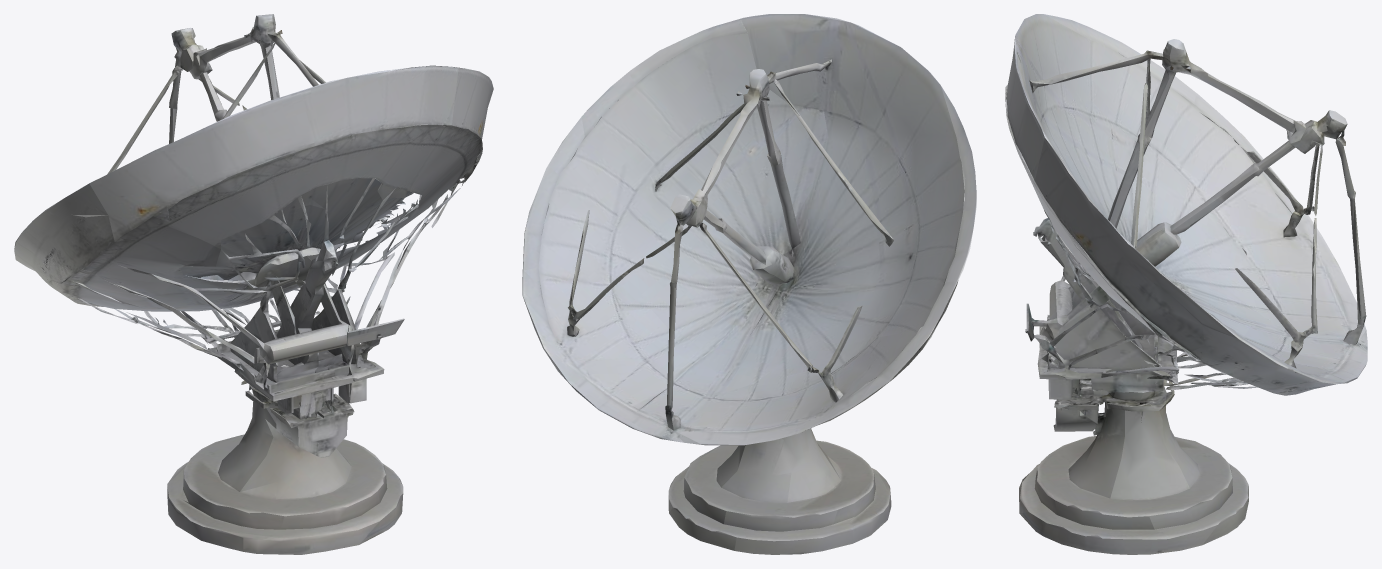
File: sat_dish.glb
3 views of the same model, side by side, from view 1: azimuth 30°, elevation 25°; view 2: azimuth 150°, elevation 25°; view 3: azimuth 270°, elevation 25° (orthographic). The views are drawn at different scales.
Visible parts, largest first — view 1: sat_dish; view 2: sat_dish; view 3: sat_dish.
Boxes of the visible parts, bbox=[...] form: sat_dish: bbox=[14, 14, 493, 554]; sat_dish: bbox=[522, 14, 976, 554]; sat_dish: bbox=[1005, 14, 1367, 554].
Bounding box in the file's own units: 1.93 × 1.99 × 1.41.
1 material, 1 textured.
